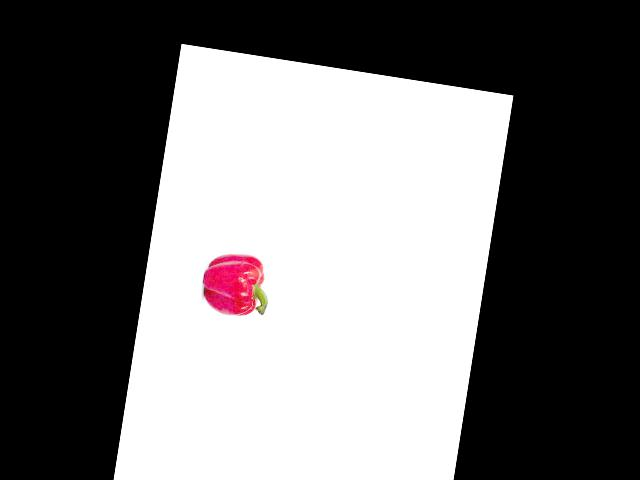bell_pepper: (198, 245, 276, 322)
